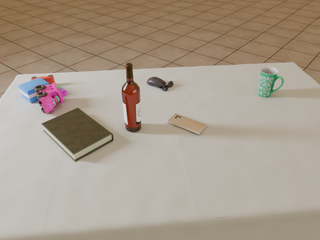book: (41, 108, 113, 162)
bottle: (122, 63, 141, 132)
box: (18, 77, 49, 103)
cup: (257, 67, 284, 97)
mouse: (147, 77, 173, 91)
phone: (167, 114, 207, 135)
toy_car: (34, 83, 68, 114), (31, 75, 55, 85)
